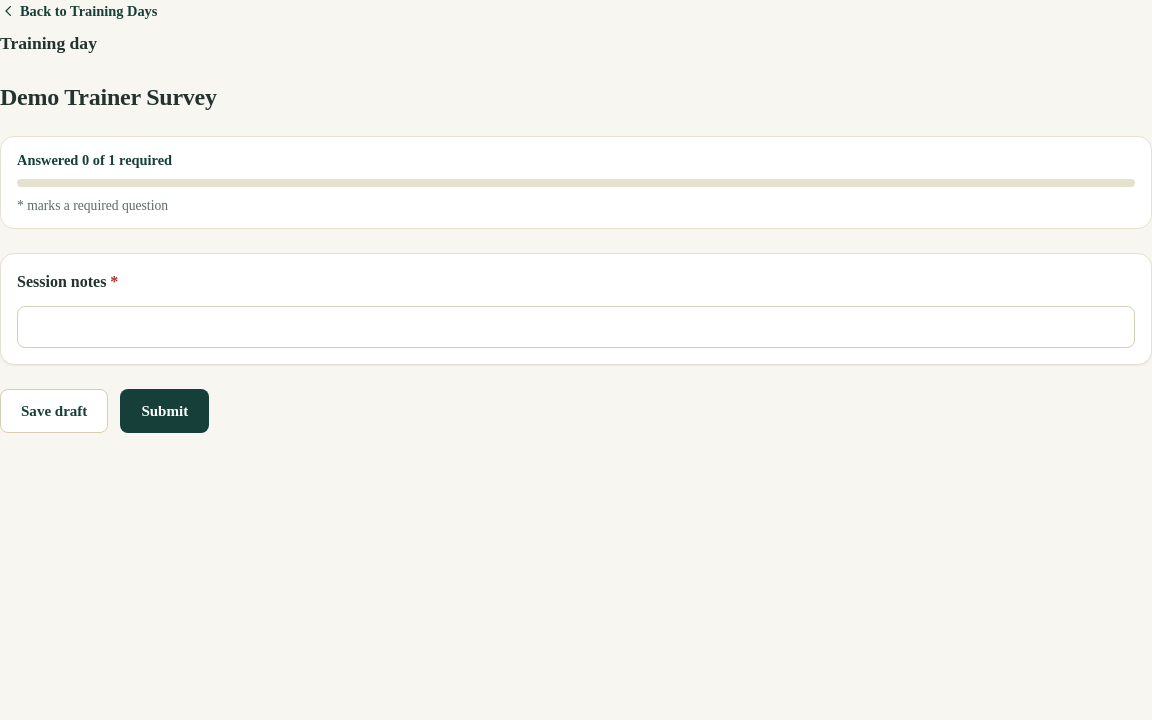
Test: Trainer report page › submits the final report and then renders read-only with no further editing
Expected: the text "Session notes" is shown, [17, 273, 106, 290]
In the field labelled "Session notes*": (576, 327) [17, 306, 1135, 348], type "Final note"
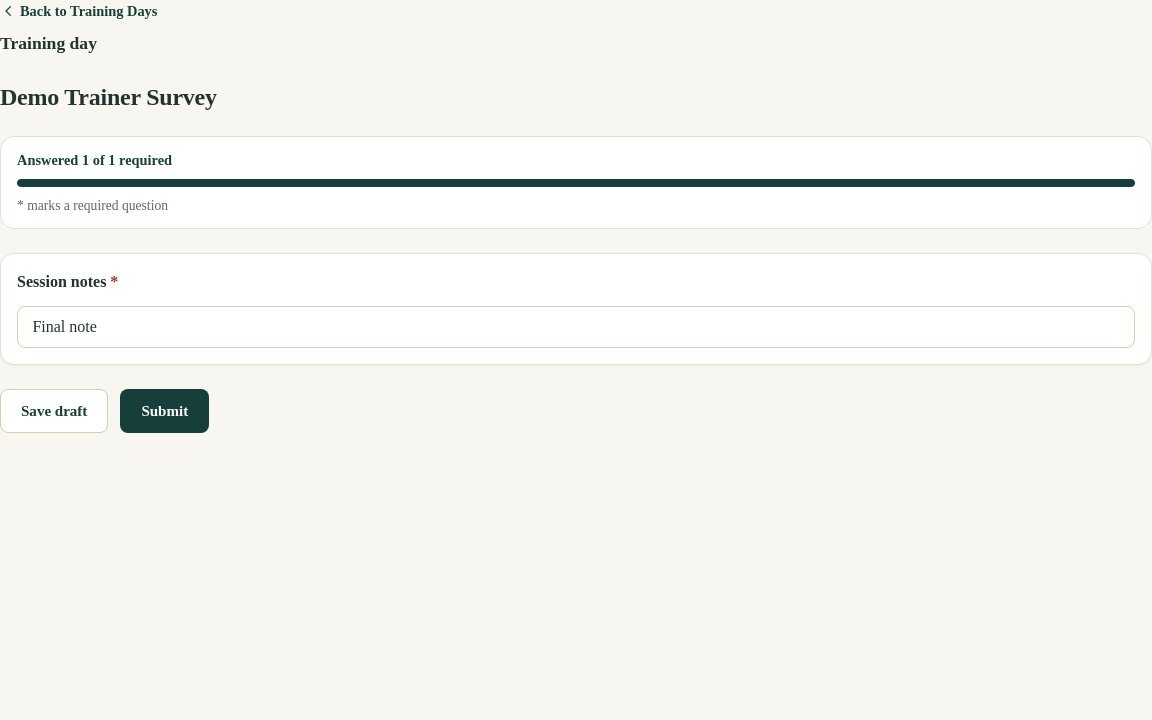
Click the button "Submit": (165, 411) [120, 389, 209, 433]
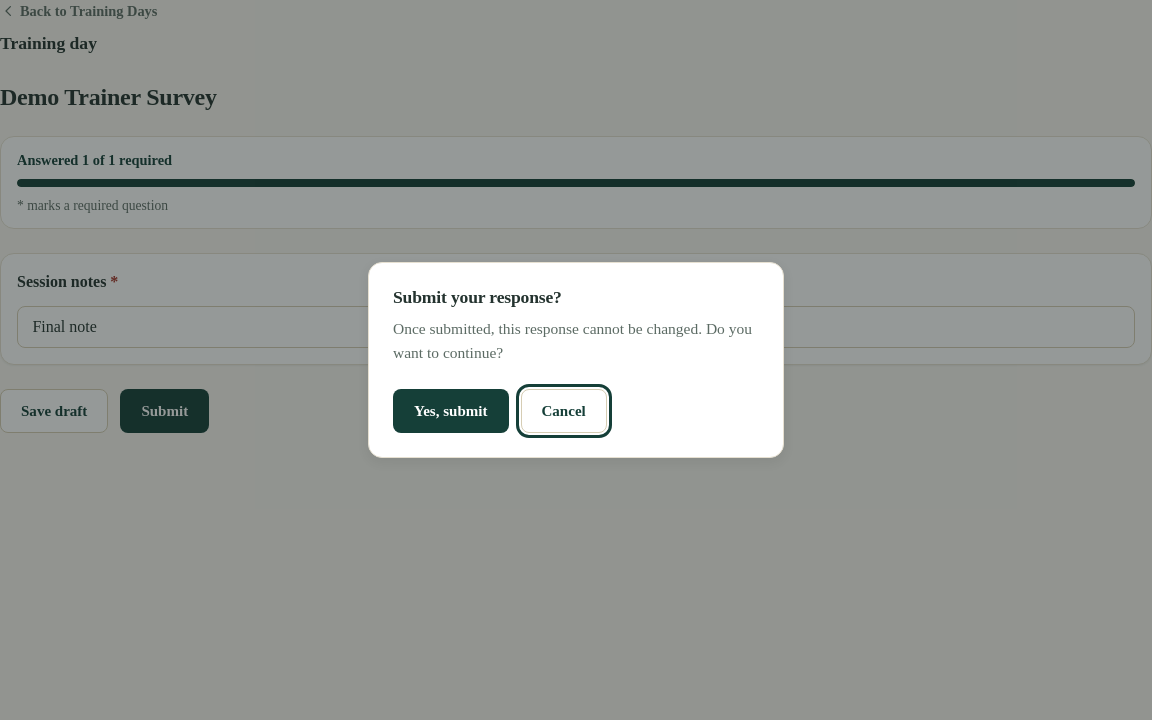
Click the button "Yes, submit": (451, 411) [393, 389, 508, 433]
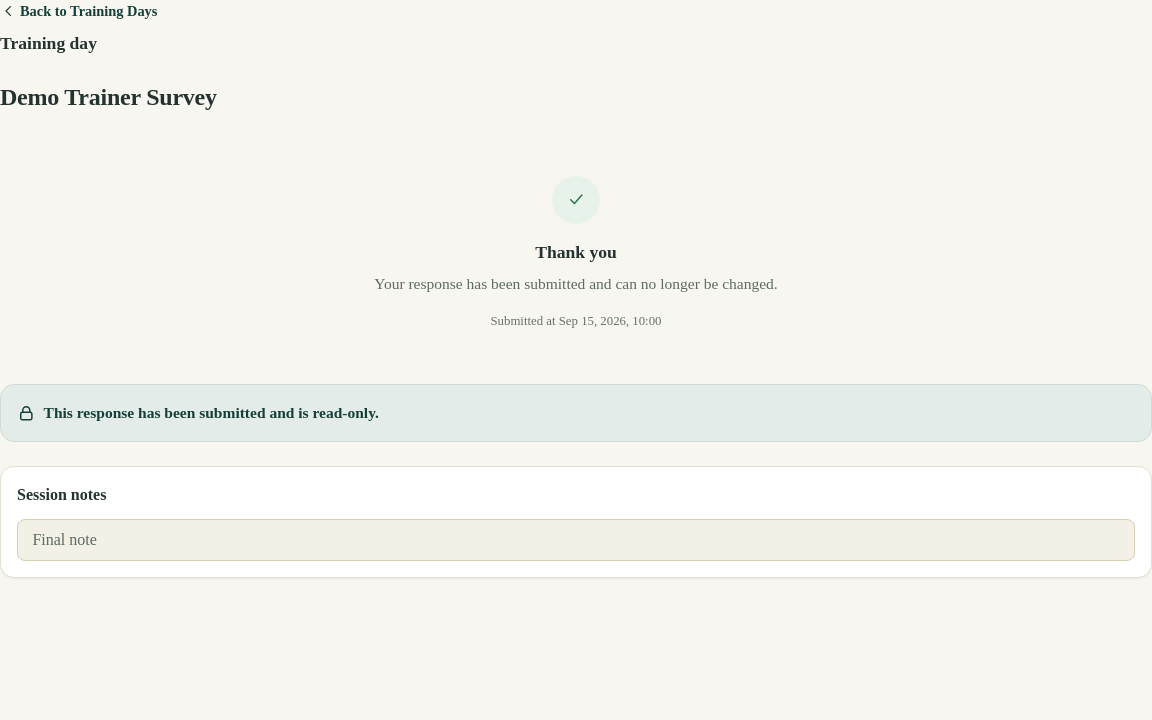
Expected: the heading "Thank you" is shown, [535, 242, 617, 262]
Expected: the button "Save draft" is gone
